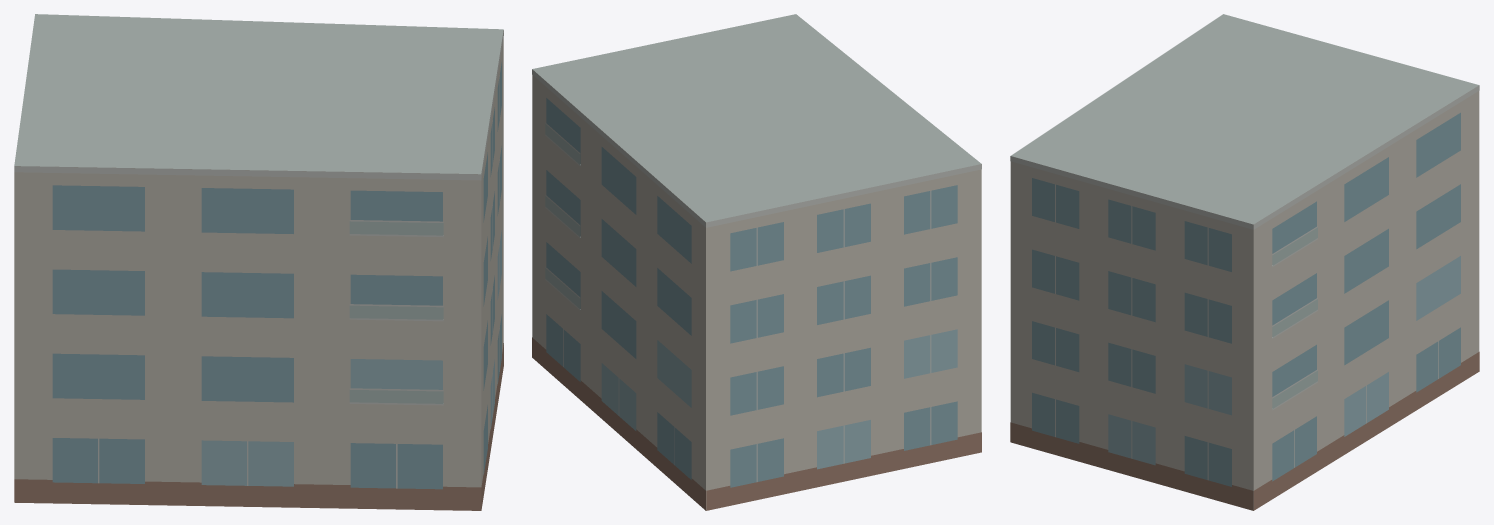
The model's file is survey-upis-32780906.glb.
3 views of the same model, side by side, from view 1: azimuth 30°, elevation 25°; view 2: azimuth 150°, elevation 25°; view 3: azimuth 270°, elevation 25° (orthographic). The views are drawn at different scales.
Visible parts, largest first — view 1: survey-upis-32780906.tmp; view 2: survey-upis-32780906.tmp; view 3: survey-upis-32780906.tmp.
Part boxes in pixels (left/top/right/bottom): survey-upis-32780906.tmp: left=14, top=14, right=503, bottom=510; survey-upis-32780906.tmp: left=532, top=14, right=981, bottom=510; survey-upis-32780906.tmp: left=1010, top=14, right=1479, bottom=510.
Size of the model in its own units: 20.5 by 13 by 19.3.
